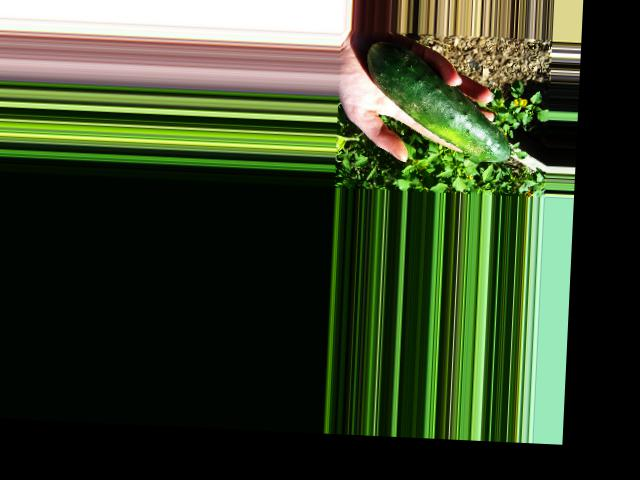cucumber: (363, 41, 516, 162)
